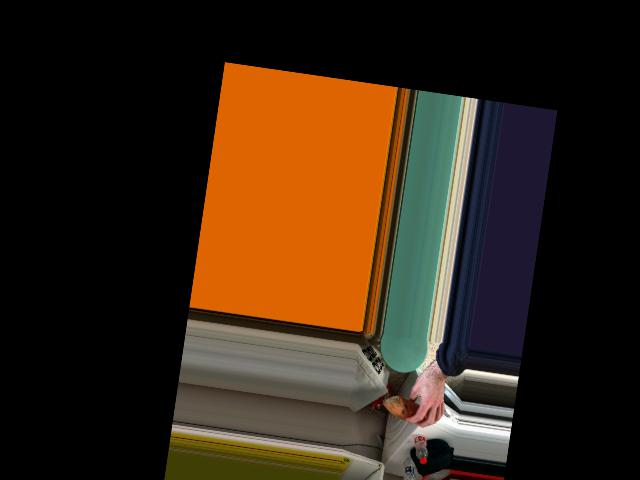sweet_potato: (383, 395, 433, 423)
